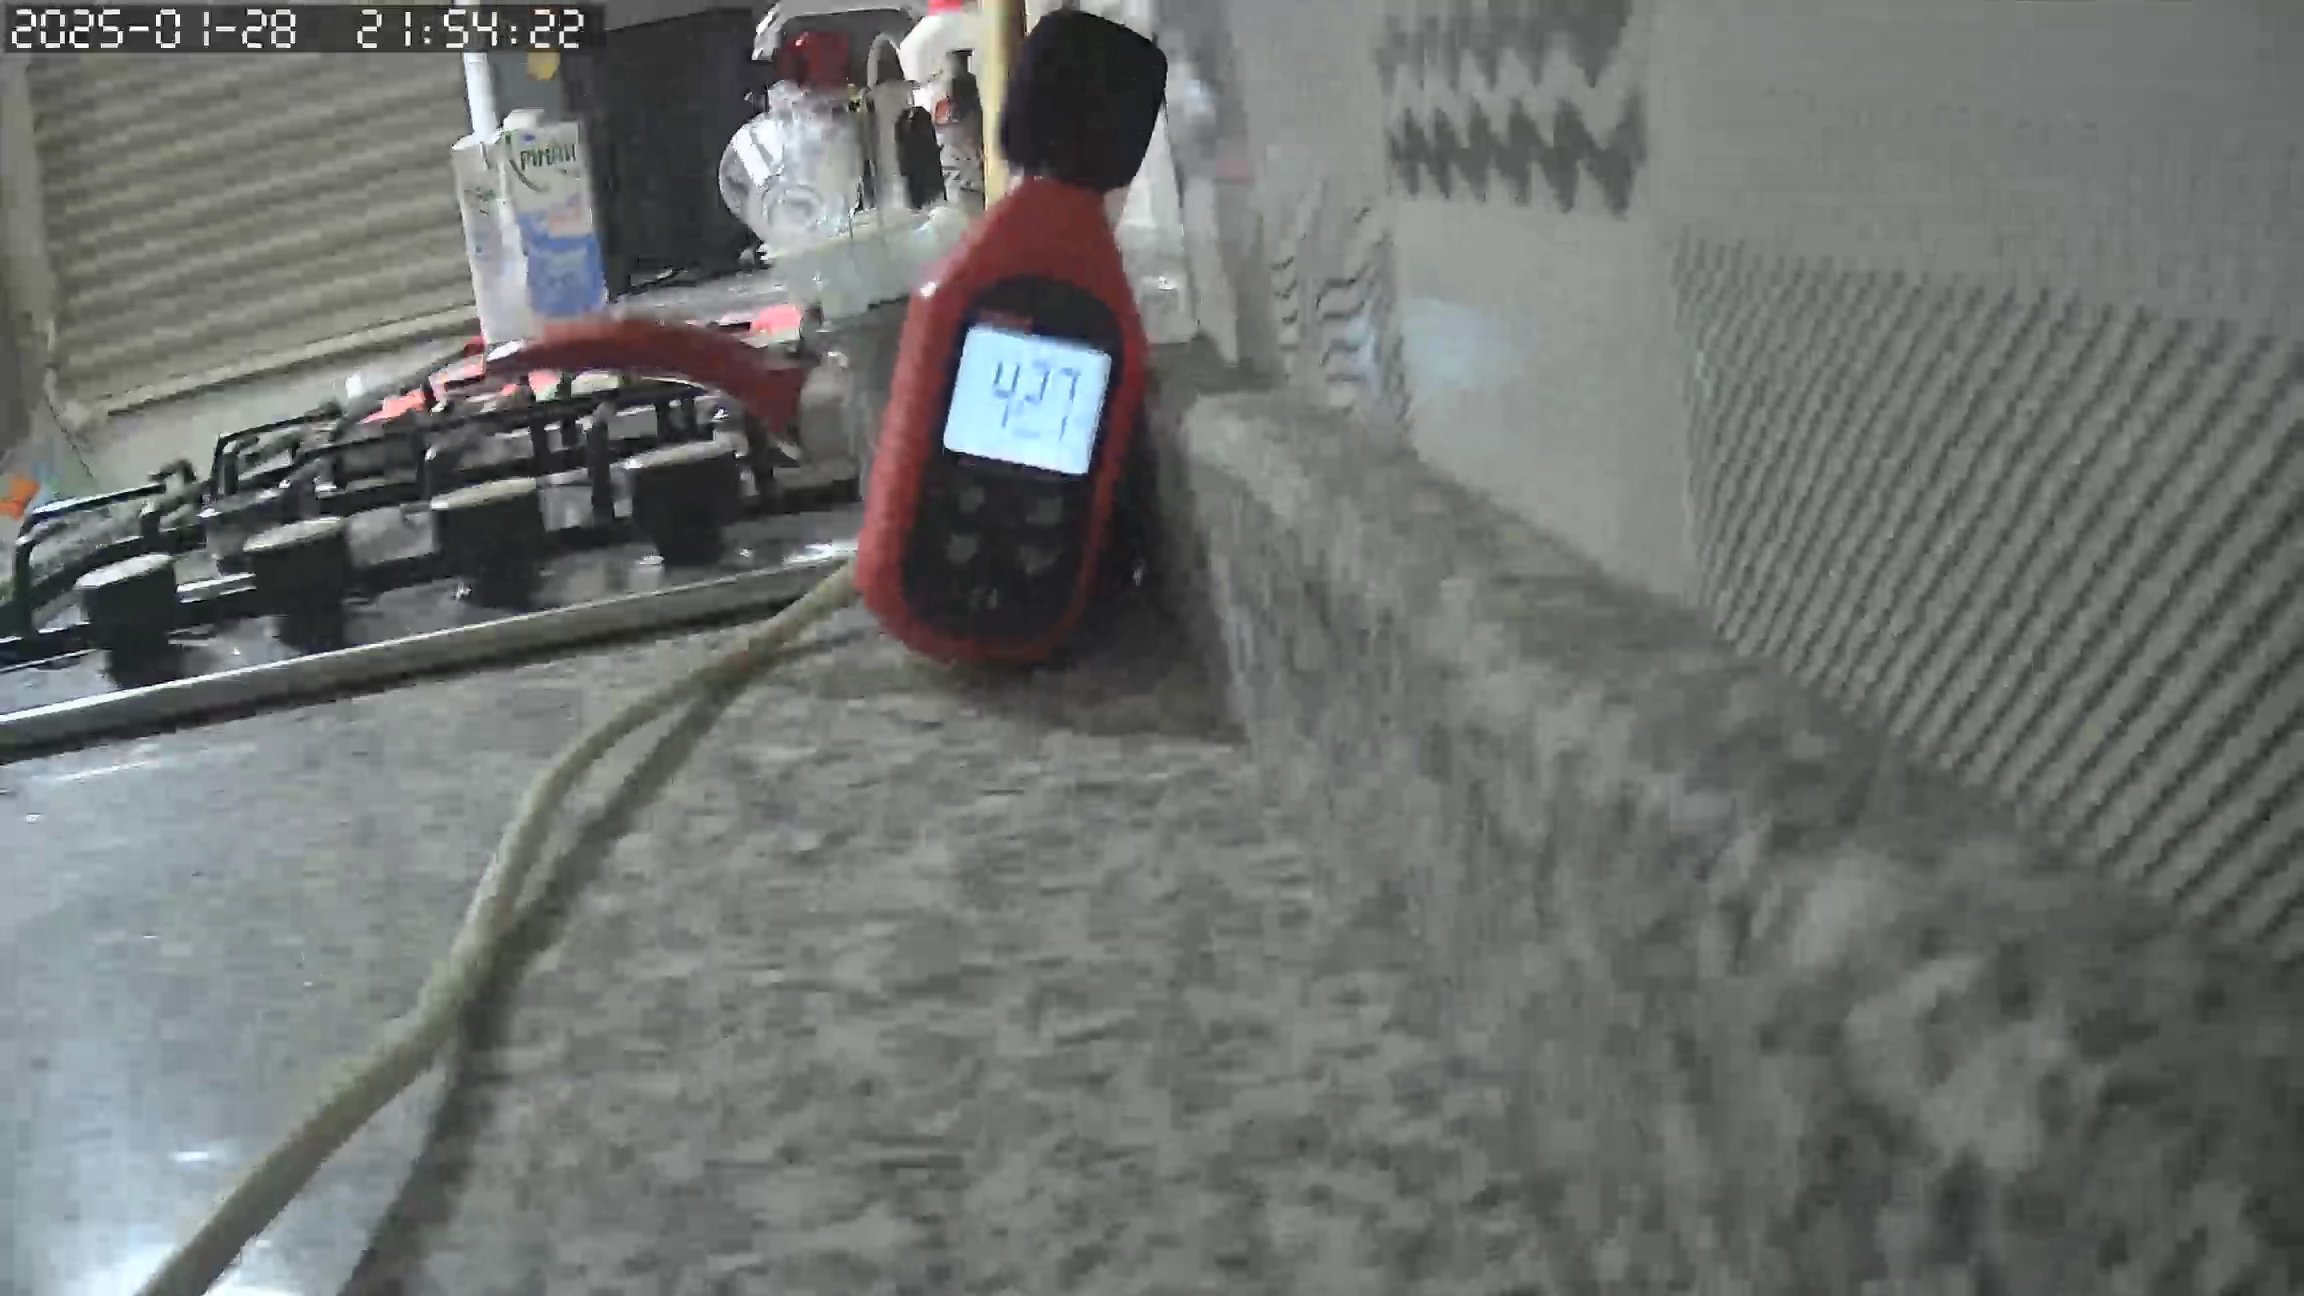screen: (942, 326, 1111, 473)
